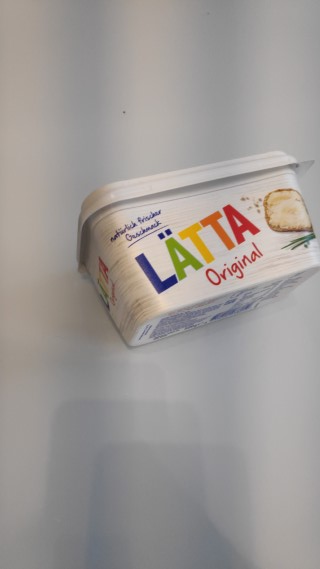laetta: (72, 149, 320, 349)
